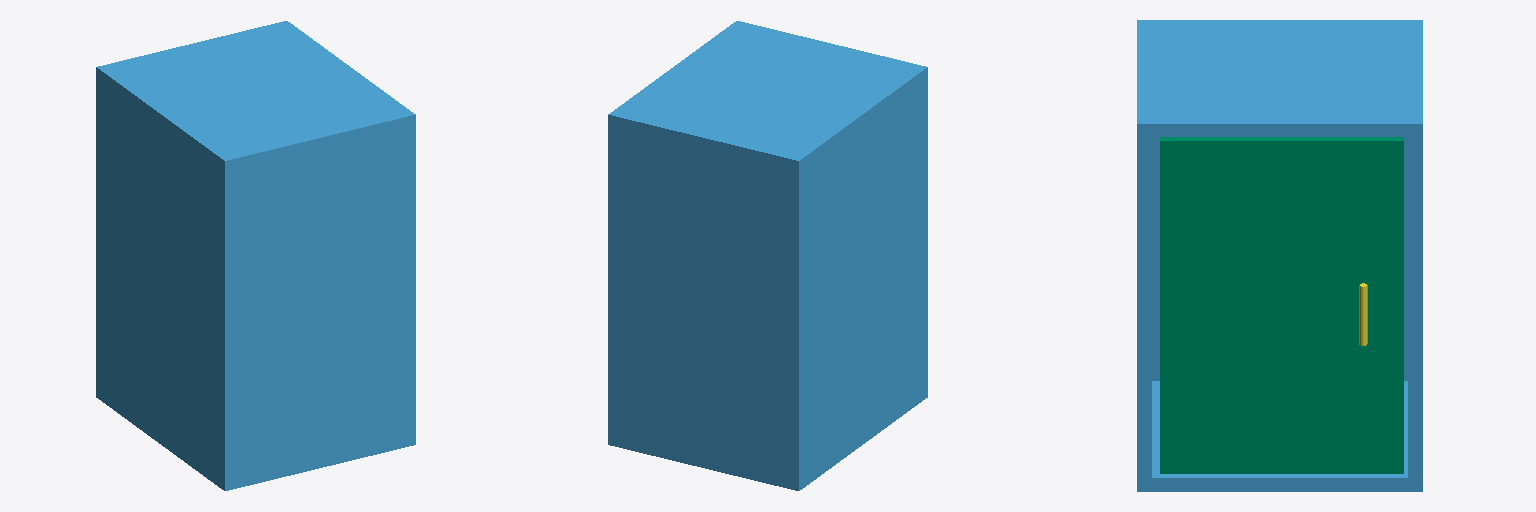
The robot description file, URDF, robot "my_cabinet":
<?xml version="1.0" ?>
<robot name="my_cabinet">
	<link name="world"/>
	<joint name="virtual_joint" type="fixed">
		<parent link="world"/>
		<child link="base_cabinet_link"/>
		<origin xyz="0.0 0.0 0.0" rpy="0.0 0.0 0.0"/>
	</joint>
	<link name="base_cabinet_link">
		<visual>
			<origin xyz="0.0 -0.0025 -0.23919195889194675" rpy="0.0 0.0 0.0"/>
			<geometry>
				<box size="0.3 0.3503058866849934 0.018"/>
			</geometry>
		</visual>
		<collision name="base_cabinet_link_collision_0">
			<origin xyz="0.0 -0.0025 -0.23919195889194675" rpy="0.0 0.0 0.0"/>
			<geometry>
				<box size="0.3 0.3503058866849934 0.018"/>
			</geometry>
		</collision>
		<visual>
			<origin xyz="0.0 0.16365294334249672 0.0" rpy="0.0 0.0 0.0"/>
			<geometry>
				<box size="0.3 0.018 0.4963839177838935"/>
			</geometry>
		</visual>
		<collision name="base_cabinet_link_collision_1">
			<origin xyz="0.0 0.16365294334249672 0.0" rpy="0.0 0.0 0.0"/>
			<geometry>
				<box size="0.3 0.018 0.4963839177838935"/>
			</geometry>
		</collision>
		<visual>
			<origin xyz="0.0 -0.16865294334249673 0.0" rpy="0.0 0.0 0.0"/>
			<geometry>
				<box size="0.3 0.018 0.4963839177838935"/>
			</geometry>
		</visual>
		<collision name="base_cabinet_link_collision_2">
			<origin xyz="0.0 -0.16865294334249673 0.0" rpy="0.0 0.0 0.0"/>
			<geometry>
				<box size="0.3 0.018 0.4963839177838935"/>
			</geometry>
		</collision>
		<visual>
			<origin xyz="0.0 -0.0025 0.23919195889194675" rpy="0.0 0.0 0.0"/>
			<geometry>
				<box size="0.3 0.3503058866849934 0.018"/>
			</geometry>
		</visual>
		<collision name="base_cabinet_link_collision_3">
			<origin xyz="0.0 -0.0025 0.23919195889194675" rpy="0.0 0.0 0.0"/>
			<geometry>
				<box size="0.3 0.3503058866849934 0.018"/>
			</geometry>
		</collision>
		<visual>
			<origin xyz="-0.141 -0.0025 0.0" rpy="0.0 0.0 0.0"/>
			<geometry>
				<box size="0.018 0.3503058866849934 0.4963839177838935"/>
			</geometry>
		</visual>
		<collision name="base_cabinet_link_collision_4">
			<origin xyz="-0.141 -0.0025 0.0" rpy="0.0 0.0 0.0"/>
			<geometry>
				<box size="0.018 0.3503058866849934 0.4963839177838935"/>
			</geometry>
		</collision>
		<inertial>
			<mass value="0.200000"/>
			<inertia ixx="0.006152" ixy="0.0" ixz="0.0" iyy="0.005607" iyz="0.0" izz="0.003545"/>
		</inertial>
	</link>
	<link name="door_link">
		<visual>
			<origin xyz="0.0 -0.1496529433424967 0.0"/>
			<geometry>
				<box size="0.018 0.2993058866849934 0.4503839177838935"/>
			</geometry>
		</visual>
		<collision name="door_link_collision">
			<origin xyz="0.0 -0.1496529433424967 0.0"/>
			<geometry>
				<box size="0.018 0.2993058866849934 0.4503839177838935"/>
			</geometry>
		</collision>
		<inertial>
			<mass value="0.200000"/>
			<inertia ixx="0.004874" ixy="0.0" ixz="0.0" iyy="0.003386" iyz="0.0" izz="0.001498"/>
		</inertial>
	</link>
	<joint name="door_joint" type="revolute">
		<origin xyz="0.141 -0.1496529433424967 0.0" rpy="0.000000 -0.000000 3.141593"/>
		<axis xyz="0 0 1"/>
		<parent link="base_cabinet_link"/>
		<child link="door_link"/>
		<limit effort="50" lower="-1.658062789394613" upper="0" velocity="10"/>
		<dynamics friction="3.5" damping="3.5"/>
	</joint>
	<link name="handle_link">
		<visual>
			<origin xyz="0.0 0.0 0.0" rpy="0.0 0.0 0.0"/>
			<geometry>
				<cylinder length="0.08" radius="0.005"/>
			</geometry>
		</visual>
		<collision name="handle_link_collision_0">
			<origin xyz="0.0 0.0 0.0" rpy="0.0 0.0 0.0"/>
			<geometry>
				<cylinder length="0.08" radius="0.005"/>
			</geometry>
		</collision>
		<visual>
			<origin xyz="-0.01 0.0 0.02" rpy="0.0 1.5707963267948966 0.0"/>
			<geometry>
				<cylinder length="0.02" radius="0.003"/>
			</geometry>
		</visual>
		<collision name="handle_link_collision_1">
			<origin xyz="-0.01 0.0 0.02" rpy="0.0 1.5707963267948966 0.0"/>
			<geometry>
				<cylinder length="0.01" radius="0.003"/>
			</geometry>
		</collision>
		<visual>
			<origin xyz="-0.01 0.0 -0.02" rpy="0.0 1.5707963267948966 0.0"/>
			<geometry>
				<cylinder length="0.02" radius="0.003"/>
			</geometry>
		</visual>
		<collision name="handle_link_collision_2">
			<origin xyz="-0.01 0.0 -0.02" rpy="0.0 1.5707963267948966 0.0"/>
			<geometry>
				<cylinder length="0.02" radius="0.003"/>
			</geometry>
		</collision>
		<inertial>
			<mass value="0.050000"/>
			<inertia ixx="0.000027" ixy="0.0" ixz="0.0" iyy="0.000029" iyz="0.0" izz="0.000003"/>
		</inertial>
	</link>
	<joint name="handle_joint" type="fixed">
		<origin xyz="-0.028999999999999998 -0.24930588668499343 0.0" rpy="0.000000 -0.000000 3.141593"/>
		<parent link="door_link"/>
		<child link="handle_link"/>
	</joint>
	<gazebo reference="base_cabinet_link">
		<sensor name="main_sensor" type="contact">
			<selfCollide>true</selfCollide>
			<alwaysOn>true</alwaysOn>
			<updateRate>5.0</updateRate>
			<material>Gazebo/Red</material>
			<contact>
				<collision>base_cabinet_link_collision_0_collision</collision>
				<collision>base_cabinet_link_collision_1_collision</collision>
				<collision>base_cabinet_link_collision_2_collision</collision>
				<collision>base_cabinet_link_collision_3_collision</collision>
				<collision>base_cabinet_link_collision_4_collision</collision>
			</contact>
			<plugin name="gazebo_ros_bumper_controller" filename="libgazebo_ros_bumper.so">
				<bumperTopicName>/contact</bumperTopicName>
				<frameName>world</frameName>
			</plugin>
		</sensor>
	</gazebo>
	<gazebo reference="door_link">
		<sensor name="main_sensor" type="contact">
			<selfCollide>true</selfCollide>
			<alwaysOn>true</alwaysOn>
			<updateRate>5.0</updateRate>
			<material>Gazebo/Red</material>
			<contact>
				<collision>door_link_collision_collision</collision>
			</contact>
			<plugin name="gazebo_ros_bumper_controller" filename="libgazebo_ros_bumper.so">
				<bumperTopicName>/contact_door</bumperTopicName>
				<frameName>contact_door</frameName>
			</plugin>
		</sensor>
	</gazebo>
	<gazebo reference="door_link">
		<mu>3.0</mu>
		<mu2>3.0</mu2>
		<kp>10000000</kp>
		<kd>100</kd>
	</gazebo>
</robot>

--- Render facts (derived) ---
3 views of the same robot in one strip: view 1: azimuth 30°, elevation 25°; view 2: azimuth 150°, elevation 25°; view 3: azimuth 270°, elevation 25° (orthographic).
Model my_cabinet with 4 links and 3 joints (1 revolute, 2 fixed), rooted at world, posed all joints at 0.
Links seen in each view (by area): view 1: base_cabinet_link; view 2: base_cabinet_link; view 3: door_link, base_cabinet_link, handle_link.
Boxes of the visible links, left/top/right/bottom form: base_cabinet_link: left=96, top=21, right=415, bottom=490; base_cabinet_link: left=608, top=21, right=927, bottom=490; door_link: left=1160, top=137, right=1403, bottom=473; base_cabinet_link: left=1137, top=20, right=1422, bottom=491; handle_link: left=1359, top=283, right=1367, bottom=345.
Bounding box of the posed robot: 0.325 × 0.3503 × 0.4964 m (x, y, z).
Geometry: primitives only (box / cylinder / sphere), no mesh files.
